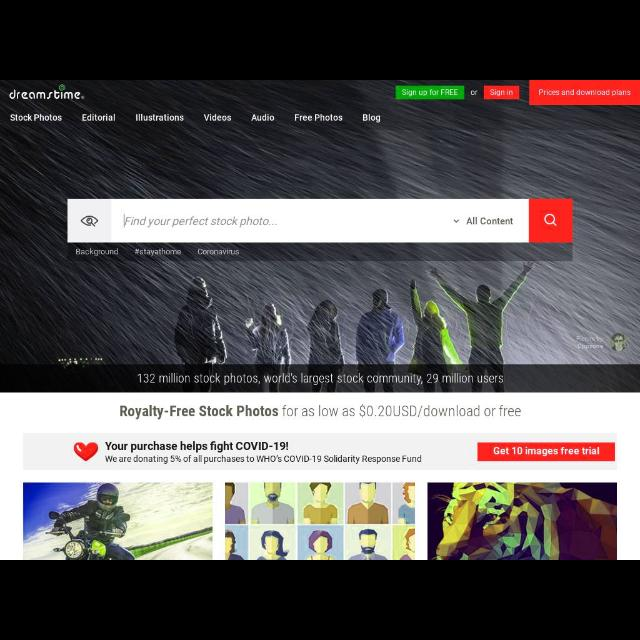backgroundimage: (1, 80, 639, 392)
button: (67, 200, 111, 242), (530, 200, 572, 242)
icon: (81, 216, 99, 226), (545, 214, 557, 226), (454, 219, 458, 223)
image: (24, 482, 212, 560), (226, 483, 414, 559), (428, 484, 618, 558), (10, 84, 84, 100), (74, 442, 98, 462)
input: (111, 199, 528, 243)
multitab: (1, 105, 639, 129)
spinner: (453, 217, 513, 226)
text: (120, 404, 520, 420), (138, 372, 504, 386), (106, 456, 422, 464), (105, 442, 287, 452), (125, 216, 277, 227), (494, 447, 600, 457), (540, 89, 630, 97), (136, 248, 180, 258), (466, 217, 514, 225), (402, 90, 458, 96), (76, 248, 118, 256), (198, 248, 240, 256), (296, 115, 342, 122), (10, 114, 62, 120), (136, 114, 184, 120), (82, 115, 116, 122), (204, 113, 232, 121), (252, 114, 274, 122), (364, 114, 381, 122), (491, 90, 513, 96), (471, 90, 477, 96)
textbutton: (530, 81, 638, 105), (478, 443, 616, 461), (396, 85, 464, 99), (484, 85, 518, 99)
toolbar: (1, 82, 640, 105)
